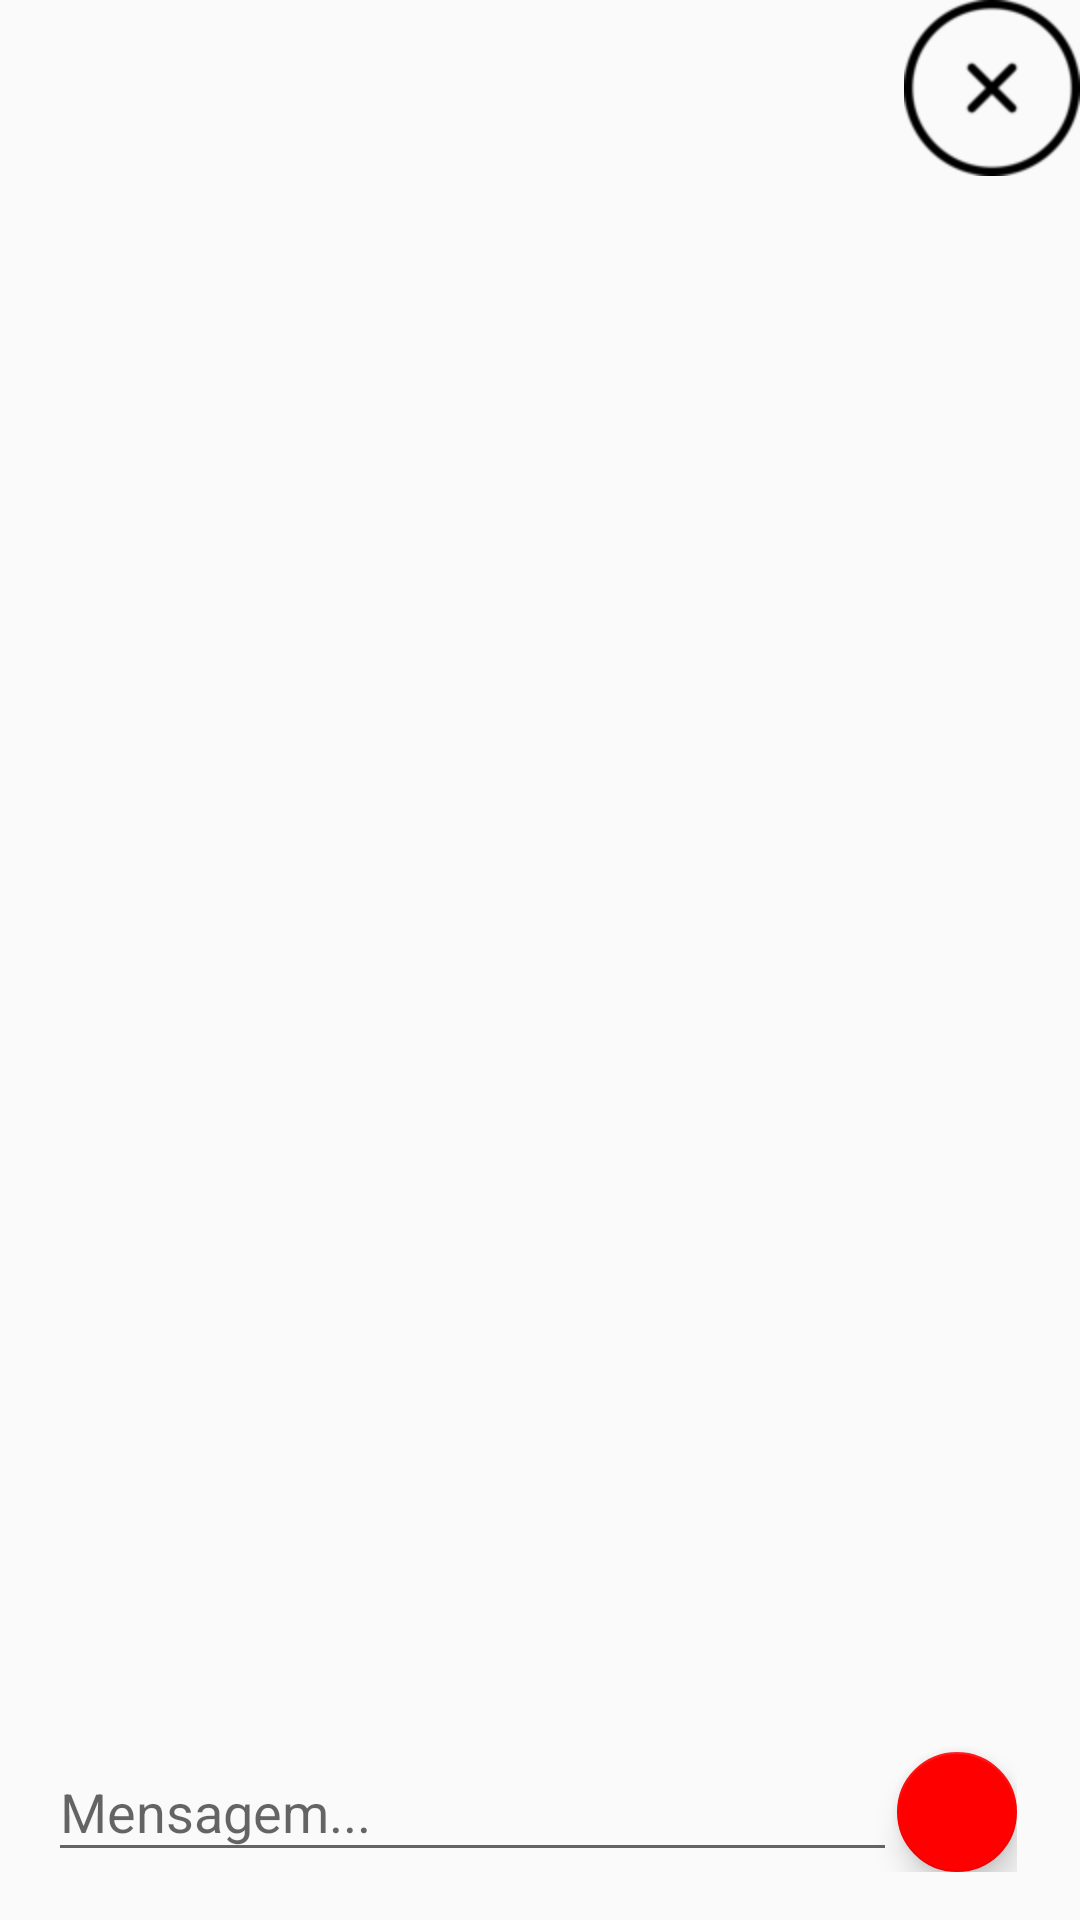

Locate icon controls on the screen. Image size 1080 x 1920, boxes as {"x1": x1, "y1": y1, "x2": x2, "y2": y2}.
close window: {"x1": 904, "y1": 0, "x2": 1080, "y2": 176}
